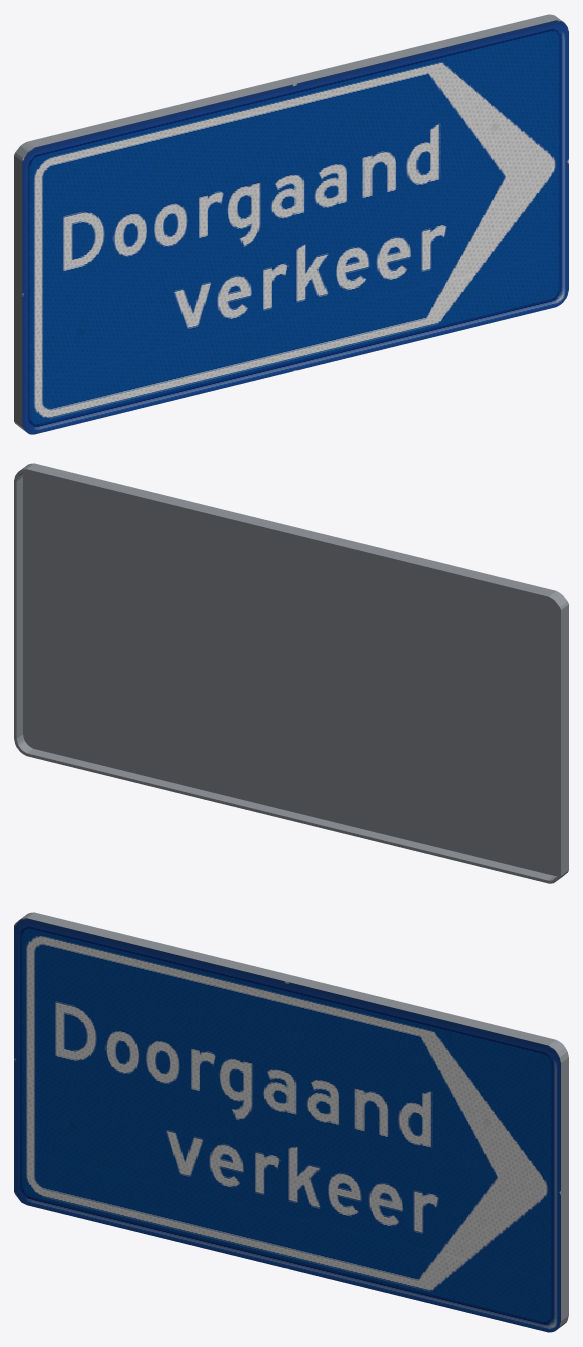
The picture shows the model from 3 angles, top to bottom: view 1: azimuth 30°, elevation 25°; view 2: azimuth 150°, elevation 25°; view 3: azimuth 330°, elevation 25°; orthographic projection.
Visible parts, largest first — view 1: cat_6ef480d810a68299; view 2: cat_6ef480d810a68299; view 3: cat_6ef480d810a68299.
Part boxes in pixels (<box>): cat_6ef480d810a68299: <box>14,14,568,434</box>; cat_6ef480d810a68299: <box>14,463,568,883</box>; cat_6ef480d810a68299: <box>14,912,568,1332</box>.
Size of the model in its own units: 0.6 by 0.015 by 0.3007.
Materials: 2 (1 with a texture image).
